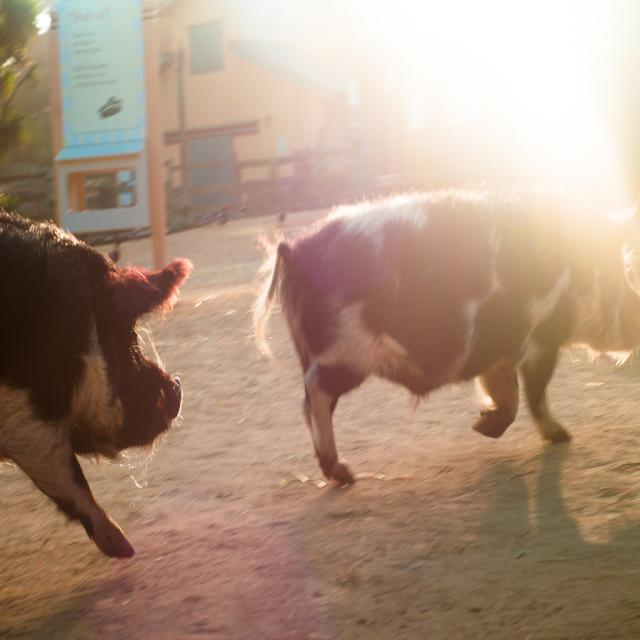Pig: (248, 187, 640, 483), (0, 210, 193, 555)
